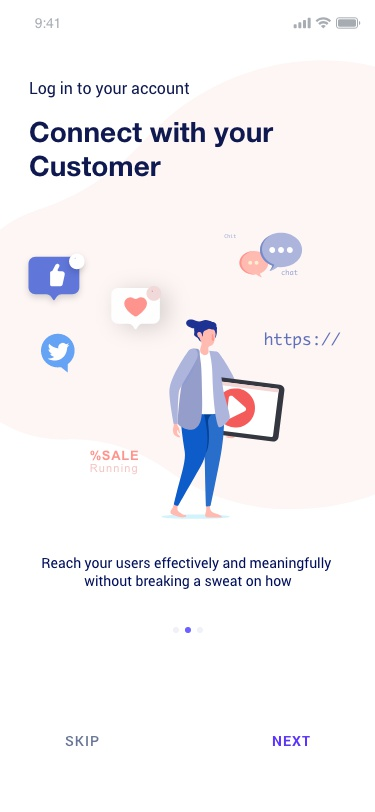Image: (29, 232, 342, 520)
PageIndicator: (173, 626, 205, 634)
Text: (30, 121, 274, 178), (42, 556, 332, 590), (30, 82, 190, 100), (273, 736, 311, 747), (66, 736, 100, 747)
UpperTaskBar: (35, 17, 361, 31)
